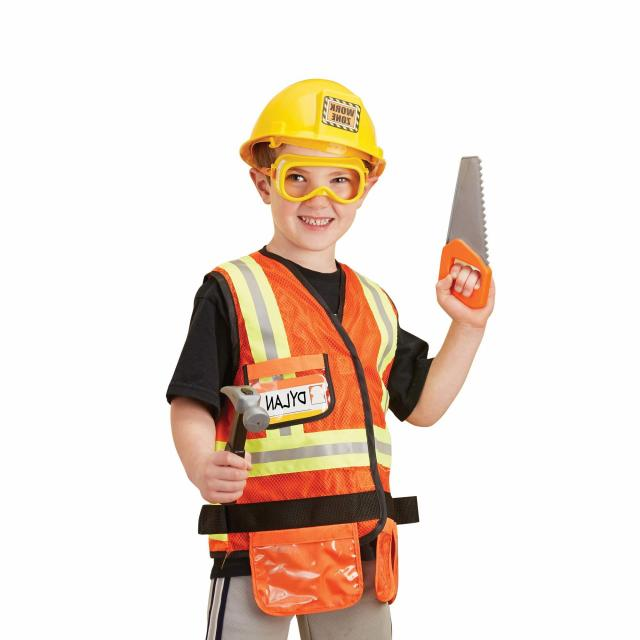Reflective-Jacket: (199, 248, 407, 604)
Safety-Helmet: (237, 74, 387, 174)
